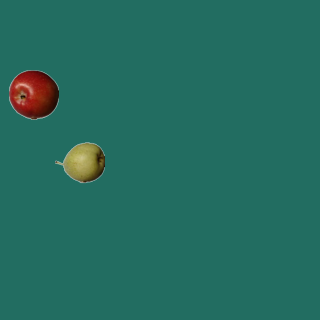Apple Braeburn: (8, 69, 58, 119)
Pear: (54, 137, 104, 187)
